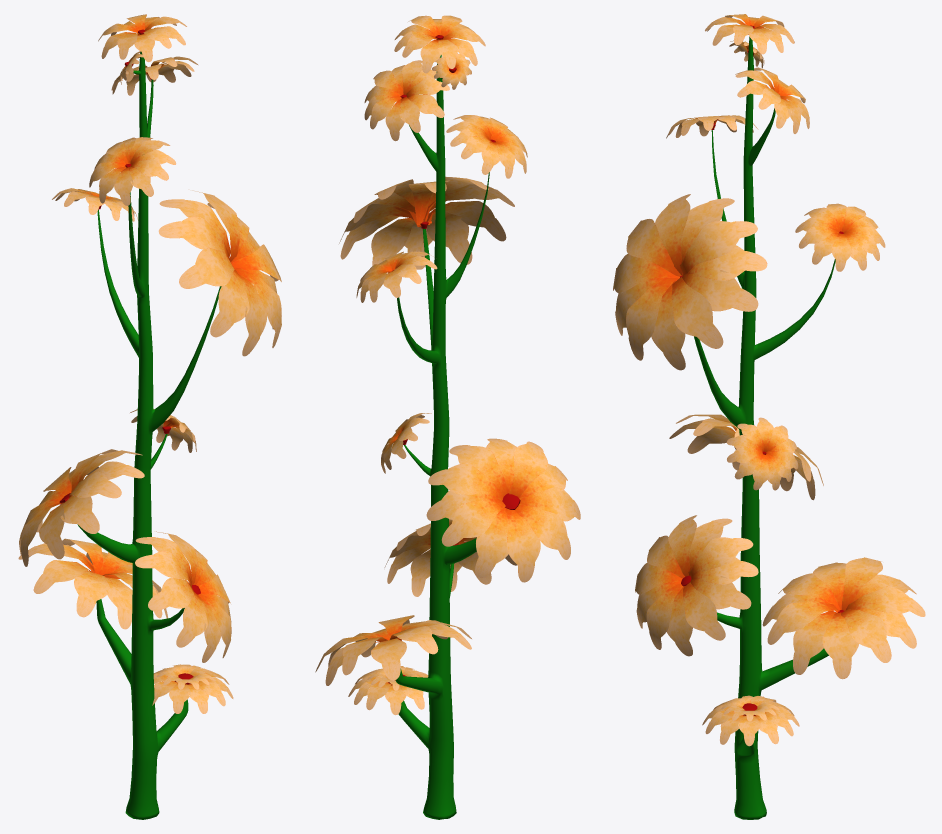
Rendered from Flower_Tree_V1.fbx.
3 views of the same model, side by side, from view 1: azimuth 30°, elevation 25°; view 2: azimuth 150°, elevation 25°; view 3: azimuth 270°, elevation 25° (orthographic).
Visible parts, largest first — view 1: pCube12; view 2: pCube12; view 3: pCube12.
Part boxes in pixels (x1,y1,x2,y2): pCube12: (18,14,281,819); pCube12: (315,15,580,819); pCube12: (613,14,925,819).
Size of the model in its own units: 6.72 by 21.29 by 7.67.
3 materials, 1 textured.
